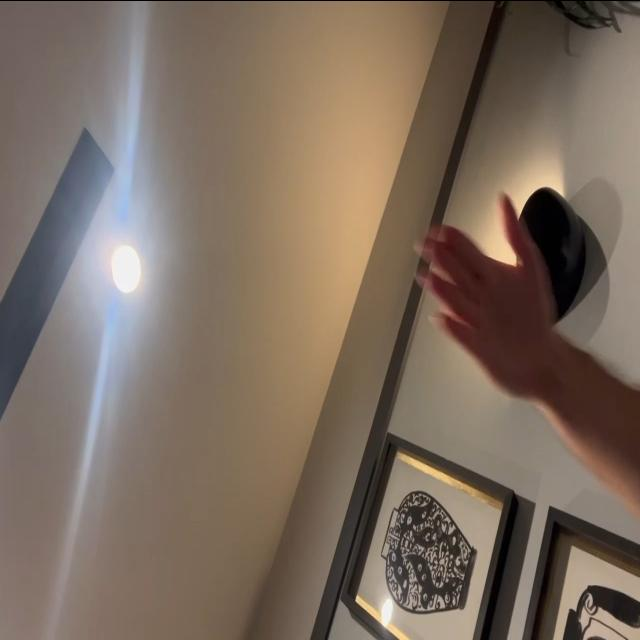Paper: (416, 191, 560, 405)
